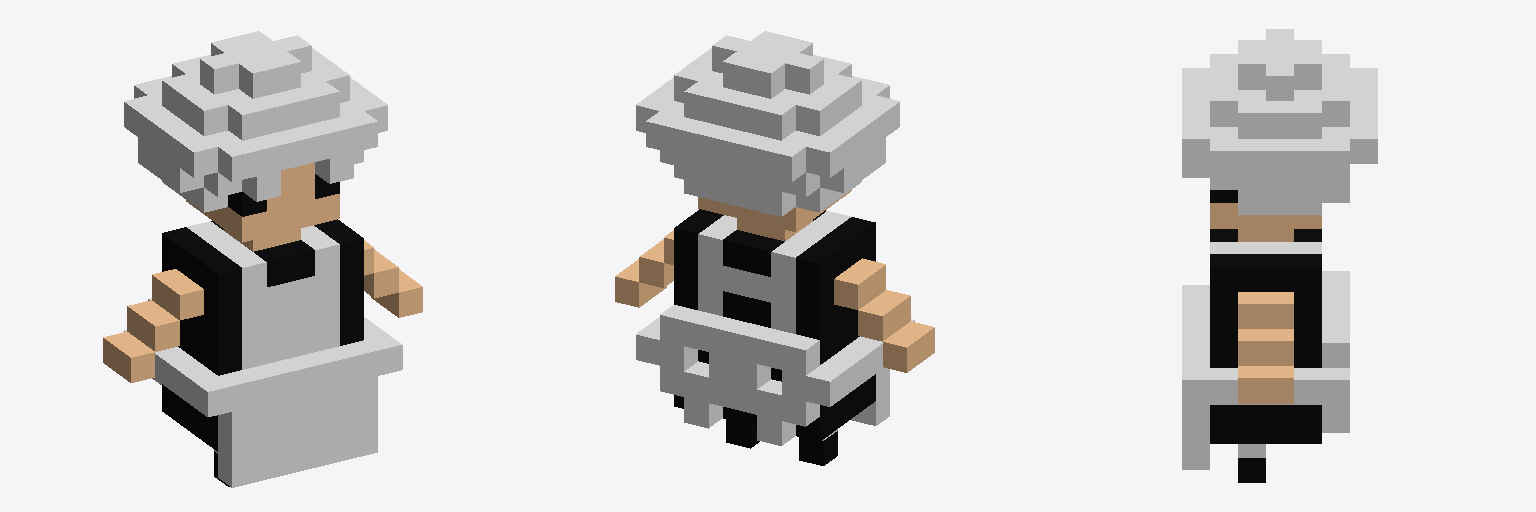
3 views of the same model, side by side, from view 1: azimuth 30°, elevation 25°; view 2: azimuth 150°, elevation 25°; view 3: azimuth 270°, elevation 25° (orthographic).
Visible parts, largest first — view 1: Maid_Prototype; view 2: Maid_Prototype; view 3: Maid_Prototype.
Boxes of the visible parts, x1=… form: Maid_Prototype: x1=103, y1=31, x2=422, y2=487; Maid_Prototype: x1=615, y1=31, x2=934, y2=465; Maid_Prototype: x1=1182, y1=29, x2=1377, y2=482.
Bounding box in the file's own units: 12 × 16 × 7.
1 materials, 1 textured.